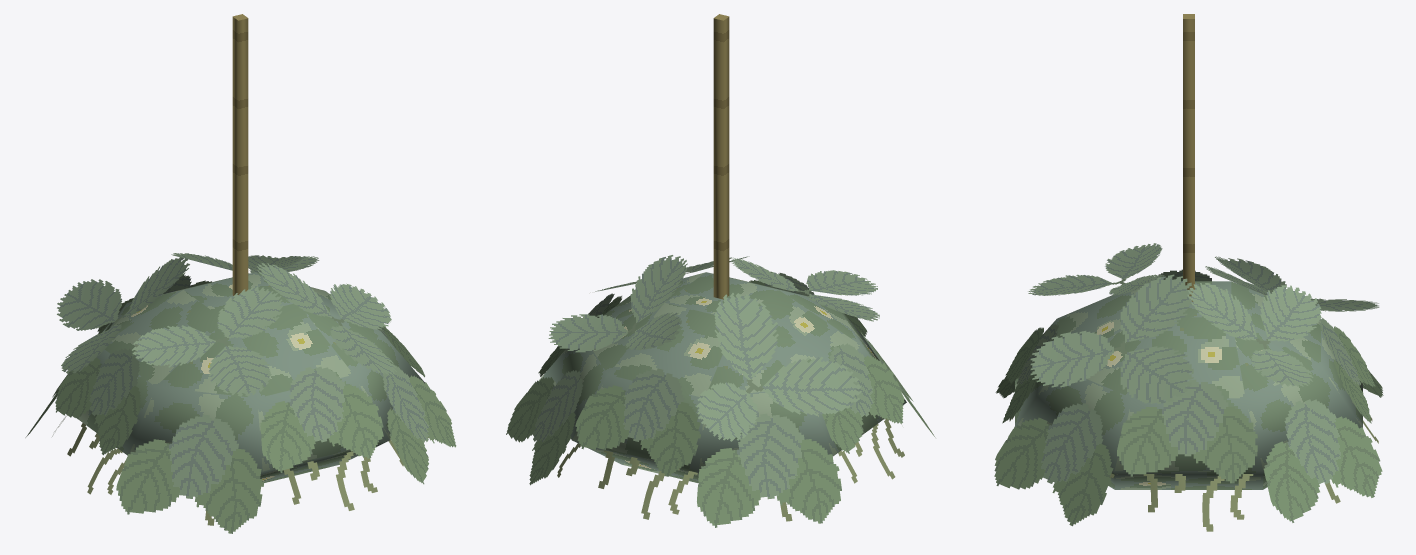
File: 04cd_Strawberry_Plant.glb
The picture shows the model from 3 angles, left to right: view 1: azimuth 30°, elevation 25°; view 2: azimuth 150°, elevation 25°; view 3: azimuth 270°, elevation 25°; orthographic projection.
Visible parts, largest first — view 1: part_0; view 2: part_0; view 3: part_0.
Boxes of the visible parts, x1,y1,x2,y2 form: part_0: [25, 14, 456, 533]; part_0: [506, 14, 935, 527]; part_0: [994, 14, 1383, 531].
Bounding box in the file's own units: 0.2868 × 0.3289 × 0.2868.
Materials: 1 (1 with a texture image).
